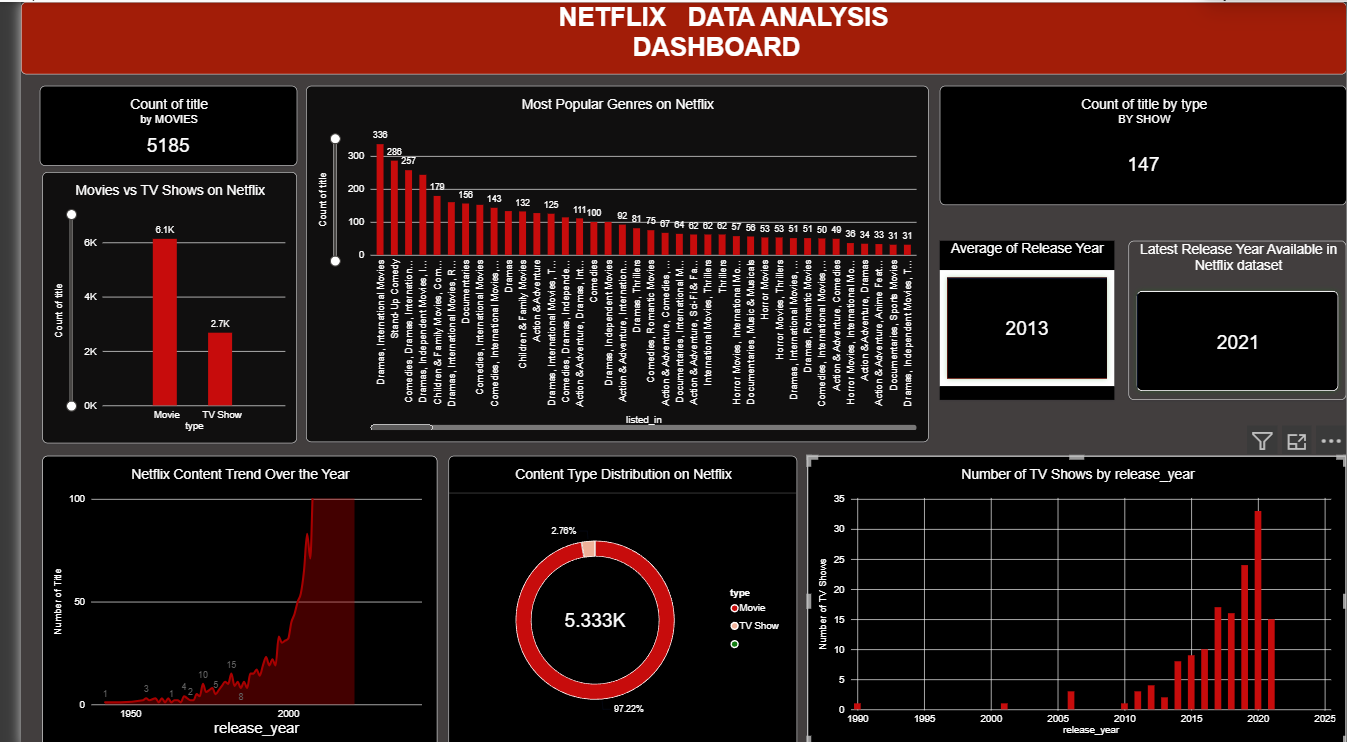

This screenshot's page, from the dashboard's own definition file:
{"tool":"powerbi","page":{"name":"Page 1","canvas":[1920,1080],"ordinal":0},"visuals":[{"type":"columnChart","title":"Movies vs TV Shows on Netflix","fields":{"Category":["Sheet1.type"],"Y":["CountNonNull(Sheet1.title)"]},"box":[30.8,246.1,369.2,392.7],"z":0},{"type":"columnChart","title":"Most Popular Genres on Netflix","fields":{"Category":["netflix_titles_cleaned.listed_in"],"Y":["CountNonNull(netflix_titles_cleaned.title)"]},"box":[412.6,121.2,901.2,515.8],"z":4000},{"type":"lineStackedColumnComboChart","fields":{"Category":["netflix_titles_cleaned.release_year"],"Y":["CountNonNull(netflix_titles_cleaned.title)"]},"box":[1138.3,656.6,782.2,422],"z":7000},{"type":"textbox","box":[0,0,1920.4,105.2],"z":8000},{"type":"kpi","fields":{"Indicator":["CountNonNull(netflix_titles_cleaned.title)"],"TrendLine":["netflix_titles_cleaned.type"]},"box":[27.1,121.2,372.8,115.8],"z":8001},{"type":"kpi","fields":{"Indicator":["CountNonNull(netflix_titles_cleaned.title)"],"TrendLine":["netflix_titles_cleaned.type"]},"box":[1329.7,121.4,590.7,172.9],"z":8002},{"type":"lineChart","title":"Netflix Content Trend Over the Year","fields":{"Category":["netflix_titles_cleaned.release_year"],"Y":["CountNonNull(netflix_titles_cleaned.title)"]},"box":[31.6,656.3,572.1,422.8],"z":8003},{"type":"donutChart","title":"Content Type Distribution on Netflix","fields":{"Category":["netflix_titles_cleaned.type"],"Y":["CountNonNull(netflix_titles_cleaned.type)"]},"box":[618.9,656.9,504.9,421.7],"z":8004},{"type":"cardVisual","title":"Latest Release Year Available in Netflix dataset","fields":{"Data":["Max(netflix_titles_cleaned.release_year)"]},"box":[1603.4,345.8,317,230.5],"z":8005},{"type":"cardVisual","title":"Average of Release Year","fields":{"Data":["Avg(netflix_titles_cleaned.release_year)"]},"box":[1329.7,345.8,253.2,230.5],"z":8006}]}

Visuals, with their boxes in screenshot pixels (x1, y1, x2, y2), scaled from the page's 1920x1080 canvas onto the 1347x742 screenshot:
"Movies vs TV Shows on Netflix" columnChart: x1=22 y1=169 x2=281 y2=439
"Most Popular Genres on Netflix" columnChart: x1=289 y1=83 x2=922 y2=438
lineStackedColumnComboChart - netflix_titles_cleaned.release_year x CountNonNull(netflix_titles_cleaned.title): x1=799 y1=451 x2=1346 y2=741
textbox: x1=0 y1=0 x2=1346 y2=72
kpi - CountNonNull(netflix_titles_cleaned.title) x netflix_titles_cleaned.type: x1=19 y1=83 x2=281 y2=163
kpi - CountNonNull(netflix_titles_cleaned.title) x netflix_titles_cleaned.type: x1=933 y1=83 x2=1346 y2=202
"Netflix Content Trend Over the Year" lineChart: x1=22 y1=451 x2=424 y2=741
"Content Type Distribution on Netflix" donutChart: x1=434 y1=451 x2=788 y2=741
"Latest Release Year Available in Netflix dataset" cardVisual: x1=1125 y1=238 x2=1346 y2=396
"Average of Release Year" cardVisual: x1=933 y1=238 x2=1111 y2=396
